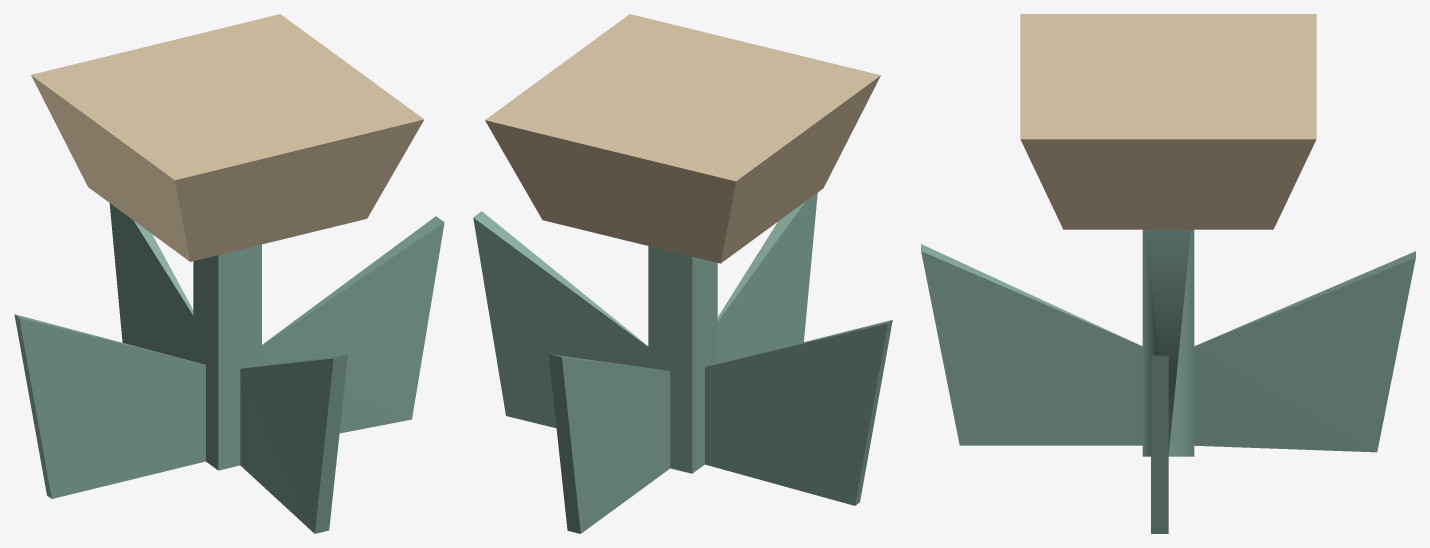
Rendered from Nature Flower 2.fbx.
The picture shows the model from 3 angles, left to right: view 1: azimuth 30°, elevation 25°; view 2: azimuth 150°, elevation 25°; view 3: azimuth 270°, elevation 25°; orthographic projection. The views are drawn at different scales.
Parts seen in each view (by area): view 1: Nature Flower 2; view 2: Nature Flower 2; view 3: Nature Flower 2.
Boxes of the visible parts, box(x1,y1,x2,y2) form: Nature Flower 2: box(14, 14, 444, 533); Nature Flower 2: box(473, 14, 892, 533); Nature Flower 2: box(921, 14, 1415, 533).
Size of the model in its own units: 48.6 by 40 by 48.59.
